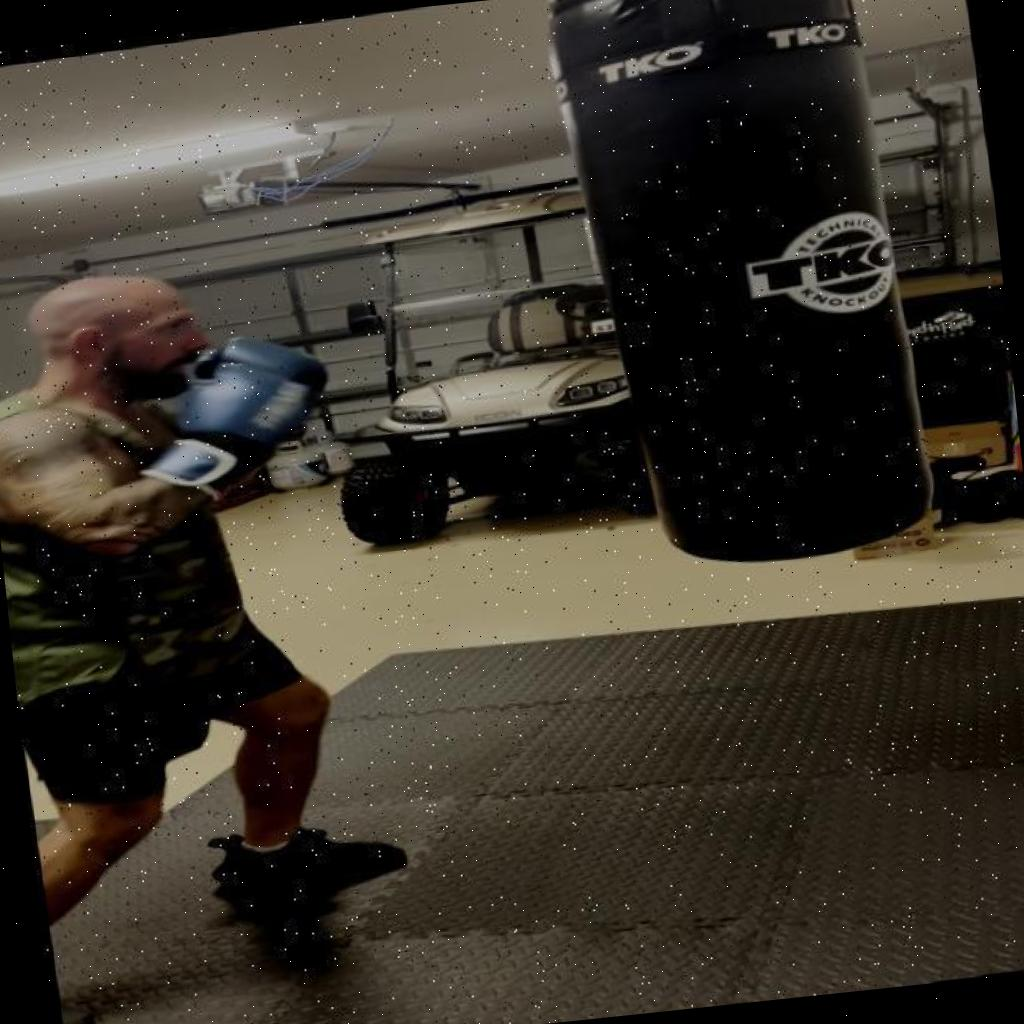no punch: (532, 0, 1009, 625)
